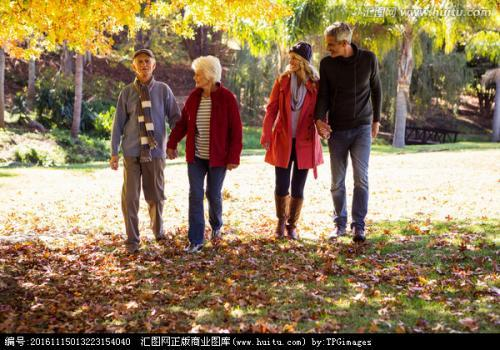up: (311, 19, 385, 249), (104, 46, 184, 257), (164, 51, 245, 256), (258, 37, 333, 244)
